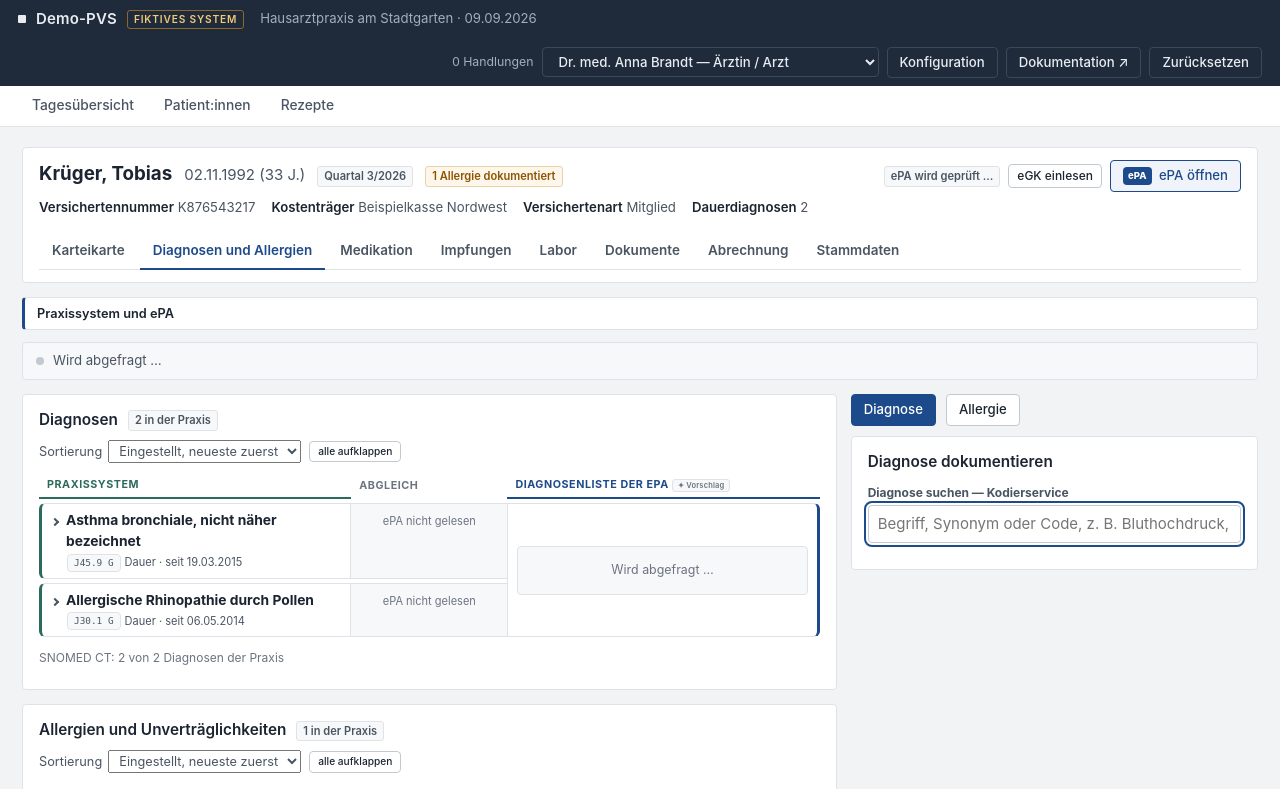
Test: Allergieerfassung mit der nationalen Werteliste › kodiert die Substanz mit SNOMED CT und zeigt die AMTS-Zuordnung
Step 1. Click the button "Allergie" → (983,410), box [946,394,1020,426]
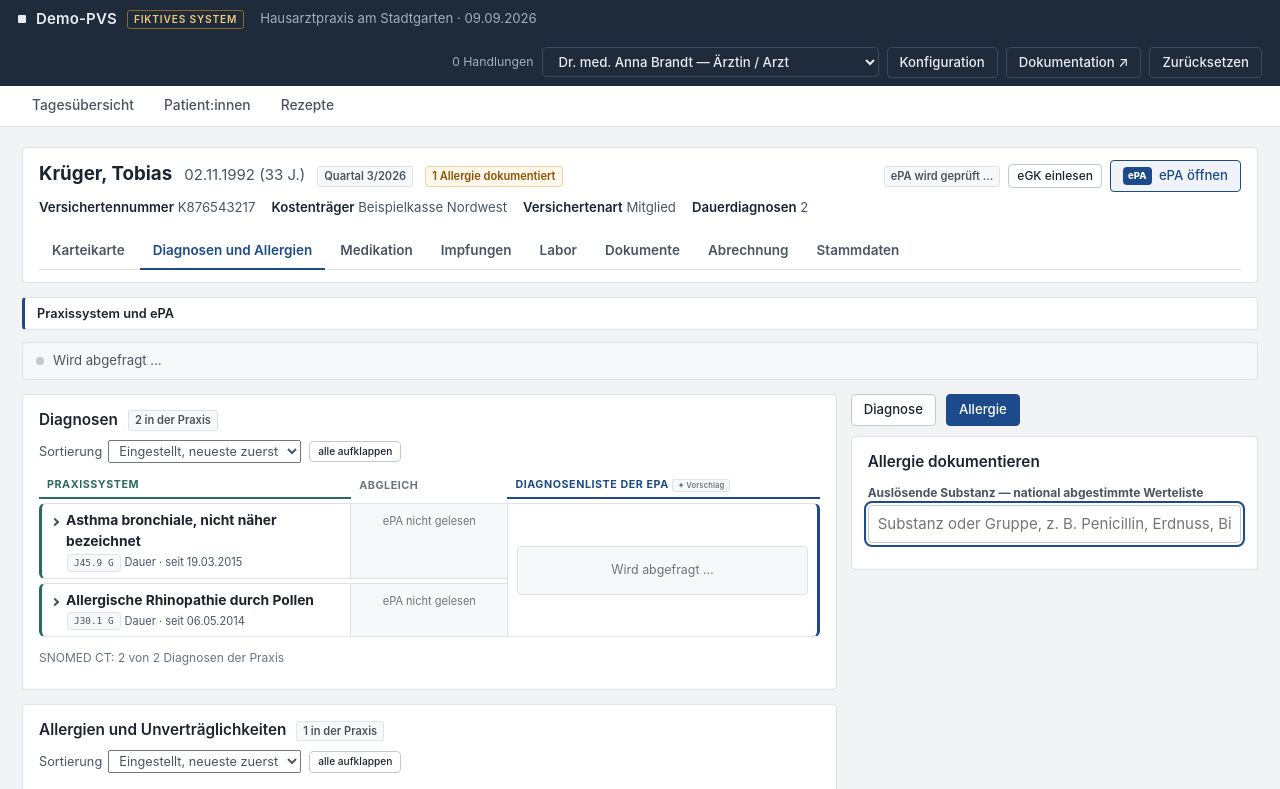
Step 2. Replace the text in the dropdown labelled "Auslösende Substanz — national abgestimmte Werteliste" with "Penicillin" → (1054,524), box [868,505,1241,543]
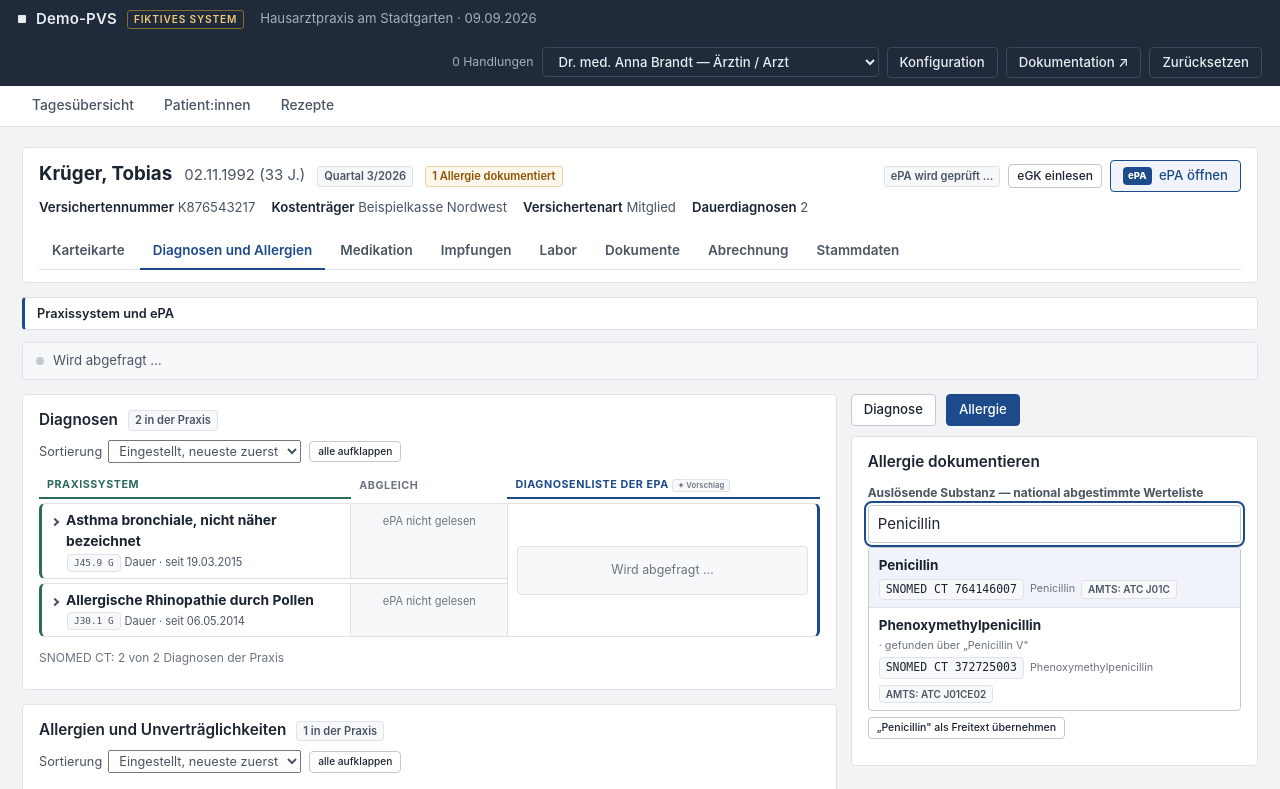
expect the option "Penicillin SNOMED CT 764146007 Penicillin AMTS: ATC J01C" is shown: met
Step 3. Click the option "Penicillin SNOMED CT 764146007 Penicillin AMTS: ATC J01C" → (909,565), box [869,548,1240,608]
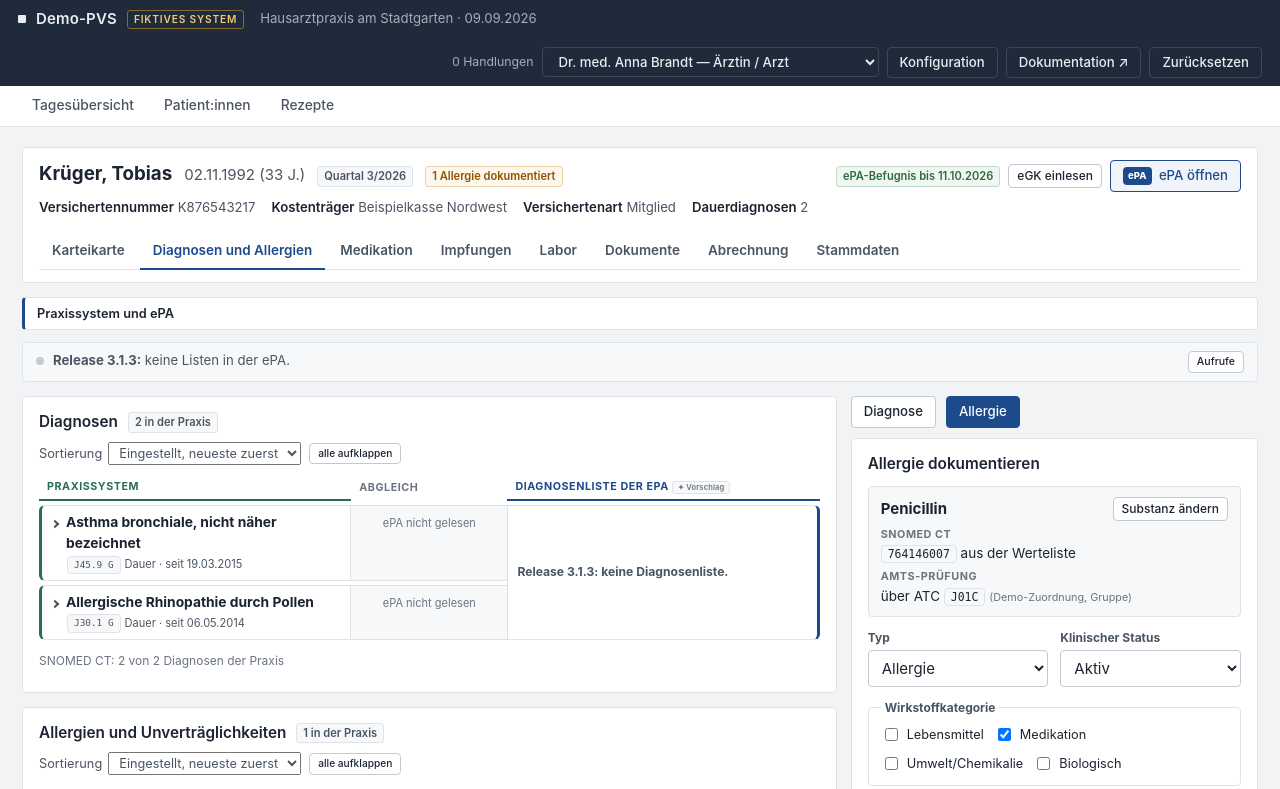
expect the text "über ATC J01C (Demo-Zuordnung, Gruppe)" is shown: met, box [881,588,1132,606]
